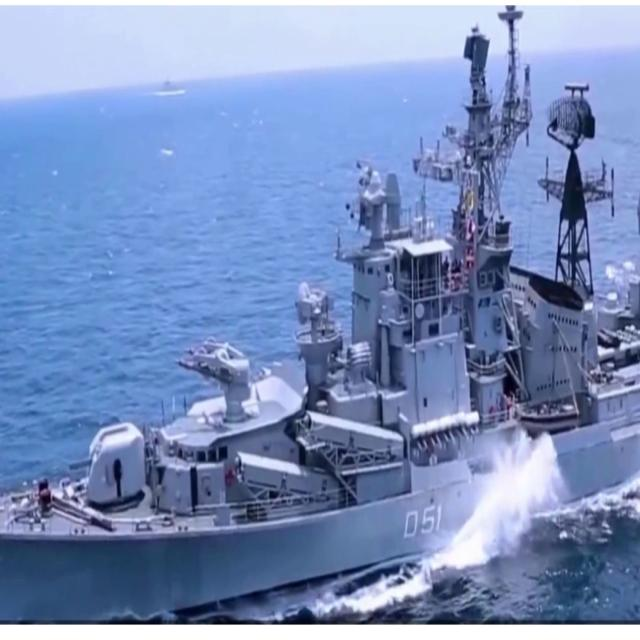OCR: (398, 498, 445, 548)
